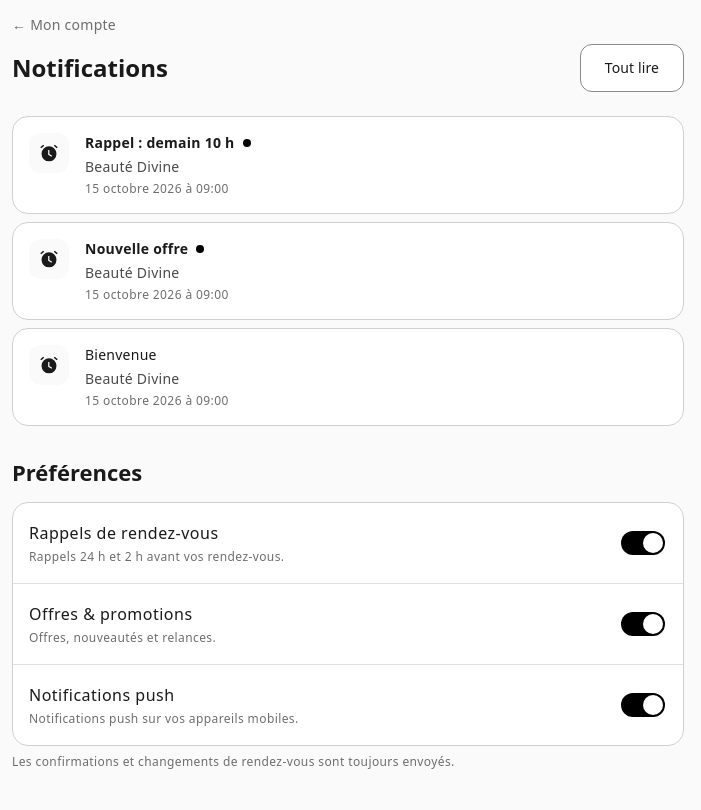
Test: Notifications — open one (§3.2 ②) › a retry that works clears the sentence
Step 1. Click the button "Rappel : demain 10 h Beauté Divine 15 octobre 2026 à 09:00" → {"x": 49, "y": 153}, box [12,116,684,214]
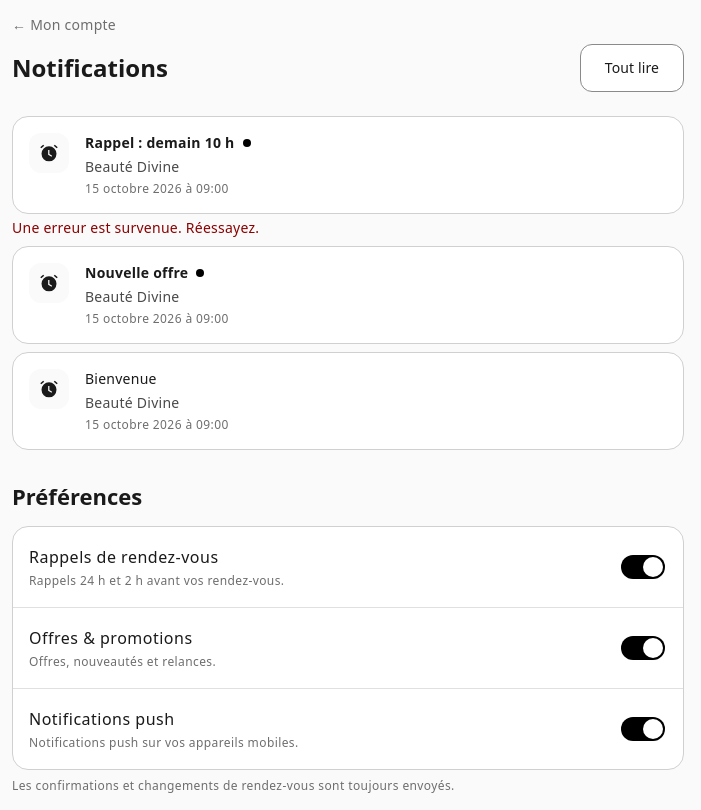
Expected: the message "Une erreur est survenue. Réessayez." is shown, [12,218,259,237]
Step 2. Click the button "Rappel : demain 10 h Beauté Divine 15 octobre 2026 à 09:00" → {"x": 49, "y": 153}, box [12,116,684,214]
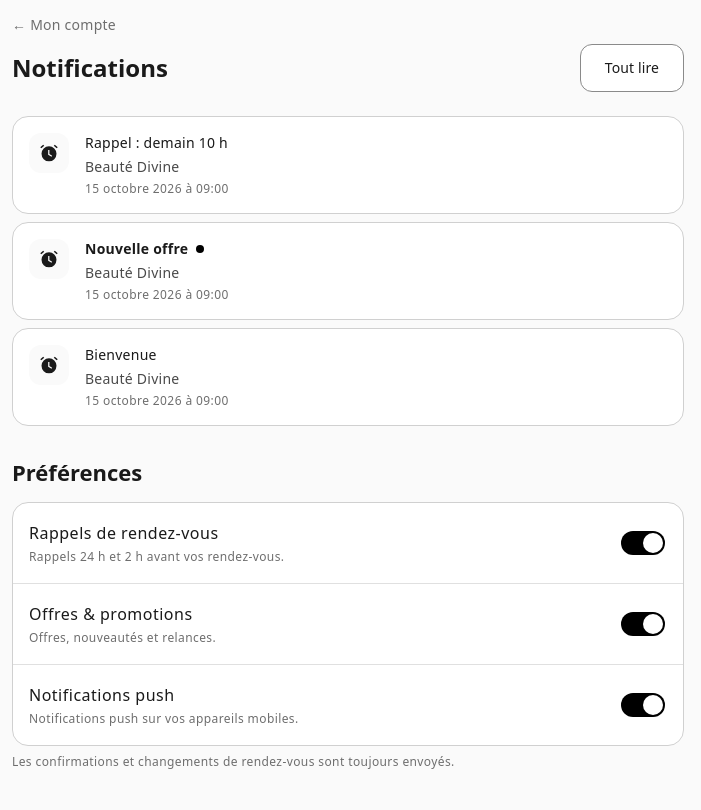
Expected: the message "Une erreur est survenue. Réessayez." is gone
